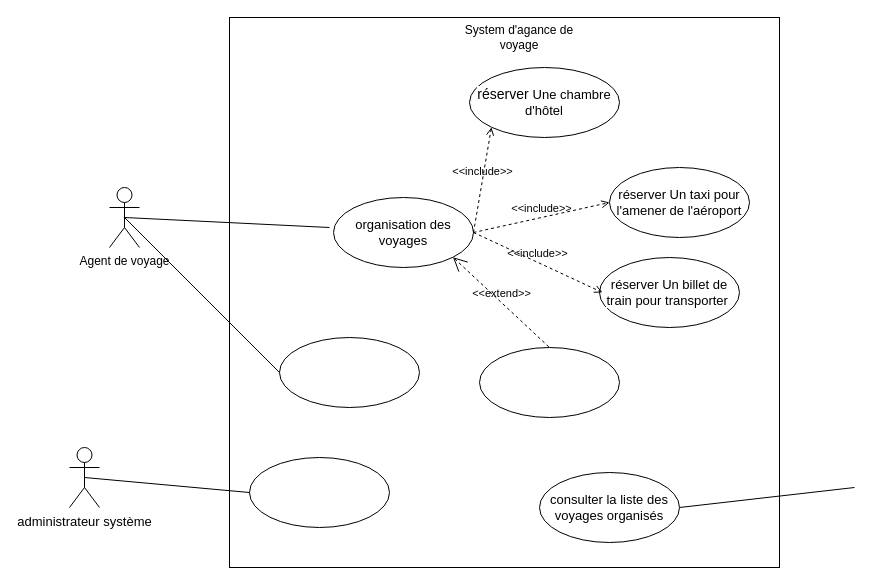
Some shapes in this 873 by 585 pixel diagram are drawn without their labels. The shapes that lost their labels are listed below. From the top down, each one's box as (x1, y1, x2, y2) in pixels, then its label:
(278, 336, 420, 408): annuler un voyage
(478, 346, 620, 418): générer des factures
(248, 456, 390, 528): gérer les profils utilisateurs
